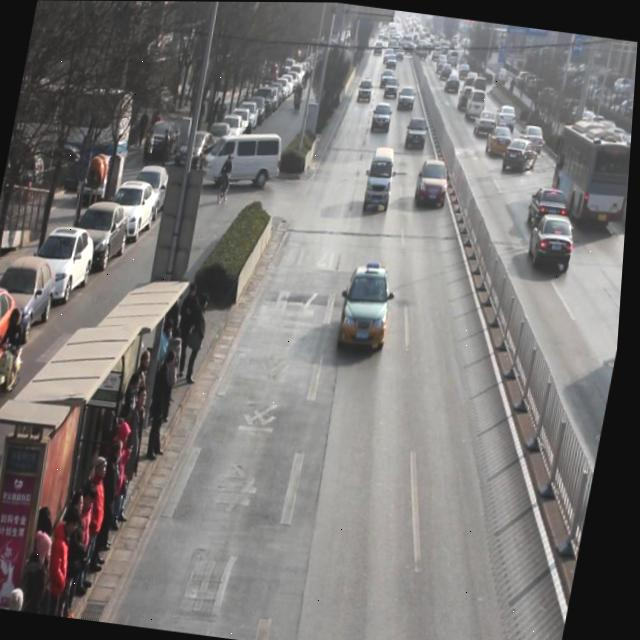car: (341, 260, 403, 352), (528, 209, 582, 271), (528, 182, 574, 234), (415, 154, 456, 210), (504, 133, 543, 172), (486, 121, 517, 157), (519, 121, 549, 157), (405, 113, 433, 151), (495, 100, 521, 133), (475, 106, 502, 137), (372, 99, 396, 132), (397, 81, 420, 111), (458, 83, 480, 111)
truck: (202, 125, 291, 191), (365, 142, 403, 212), (466, 85, 490, 119)
van: (547, 112, 634, 228)
